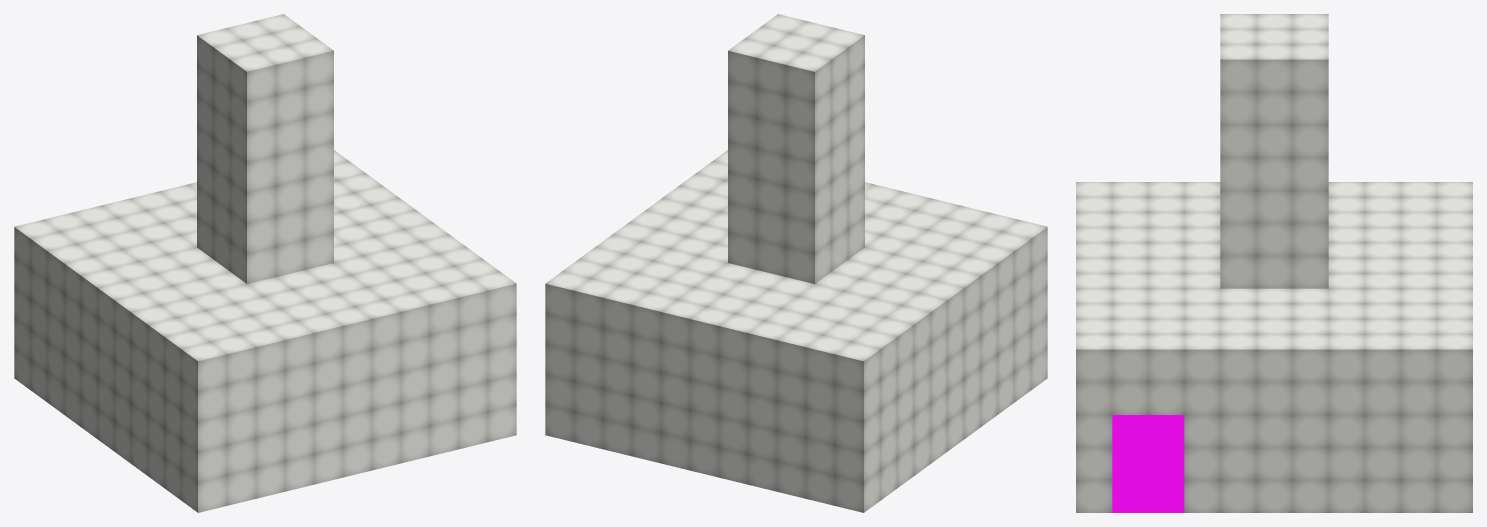
Rendered from intro_room.fbx.
3 renders of one model, left to right at view 1: azimuth 30°, elevation 25°; view 2: azimuth 150°, elevation 25°; view 3: azimuth 270°, elevation 25°, orthographic. The views are drawn at different scales.
Parts seen in each view (by area): view 1: intro_room; view 2: intro_room; view 3: intro_room.
Boxes of the visible parts, <box> form: intro_room: <box>14,14,516,512</box>; intro_room: <box>545,14,1047,512</box>; intro_room: <box>1076,14,1472,512</box>.
Size of the model in its own units: 11 by 11 by 12.
2 materials, 1 textured.
